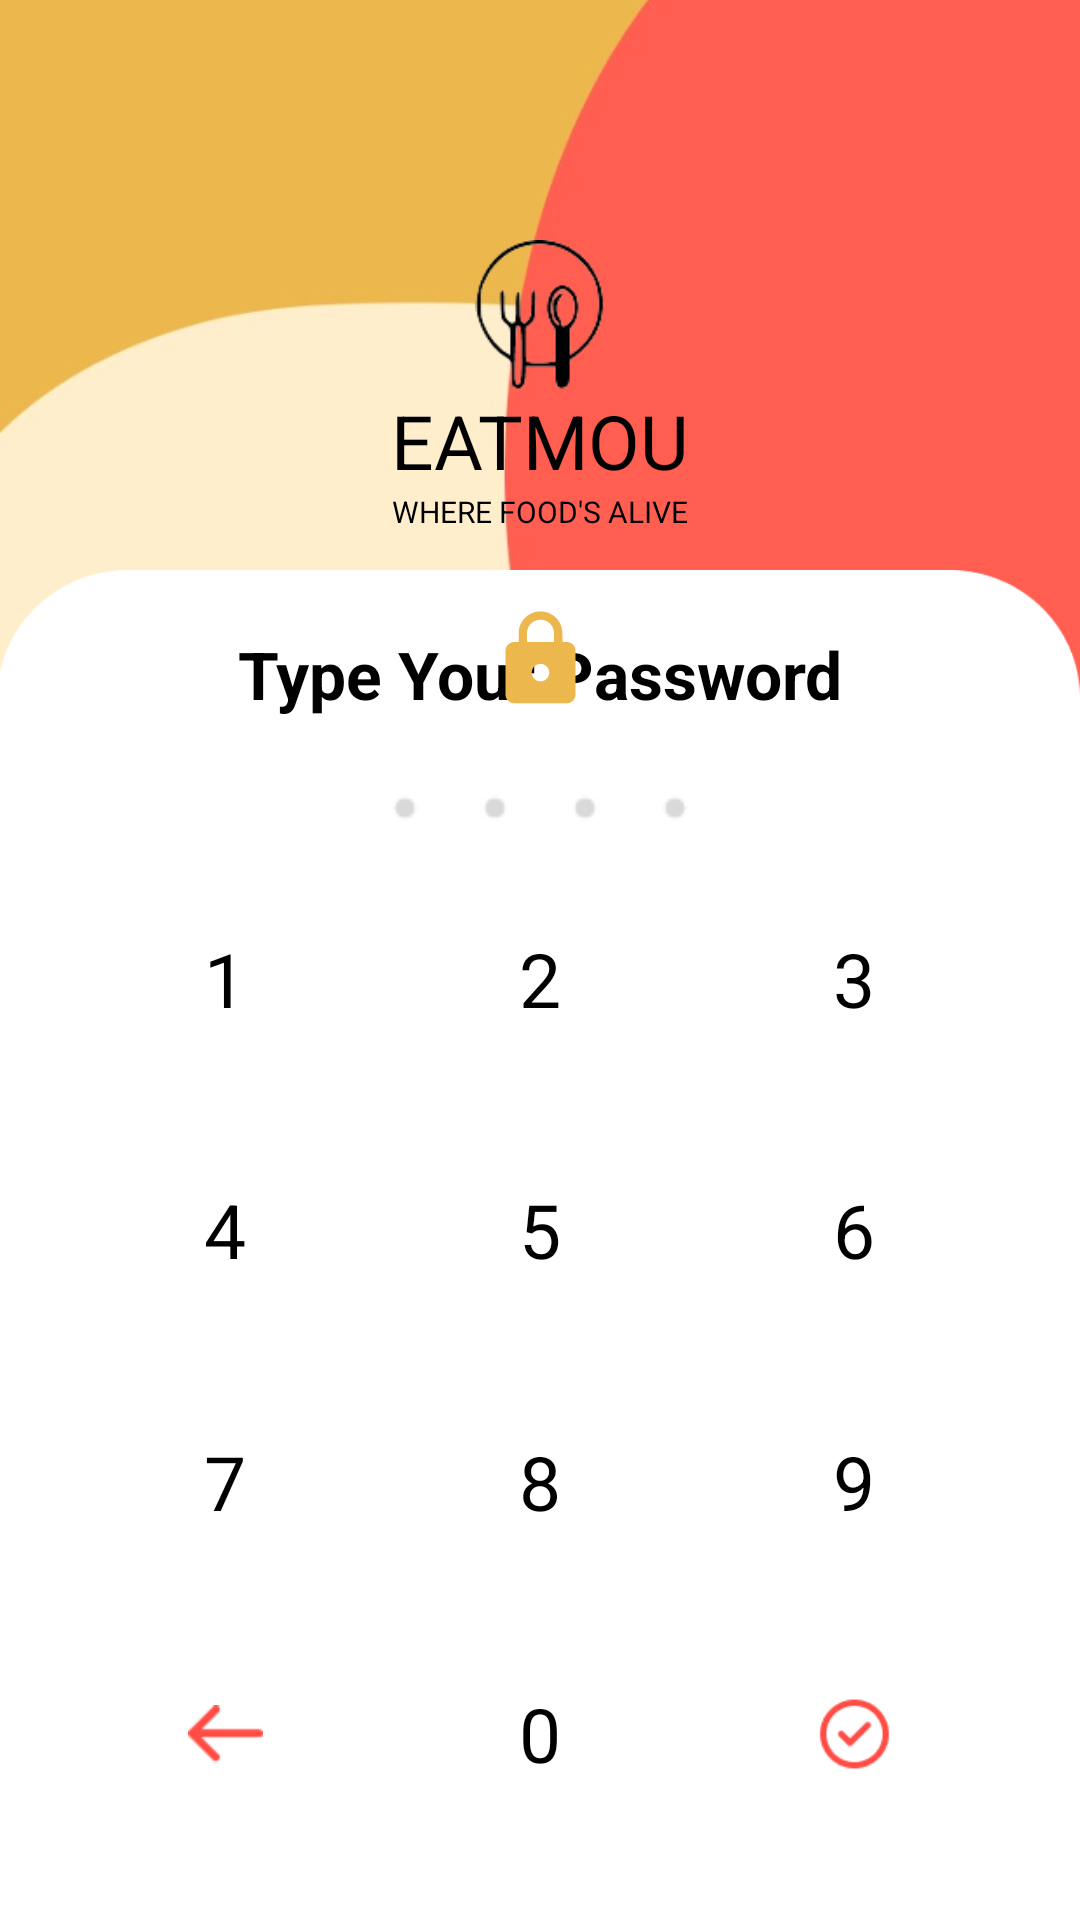

Screen size 1080px×1920px. Icon name, then its center in pixels as (x=x, y=y):
arrow erase: (x=225, y=1734)
lock close: (x=539, y=657)
loginicon: (x=540, y=315)
tick: (x=854, y=1734)
